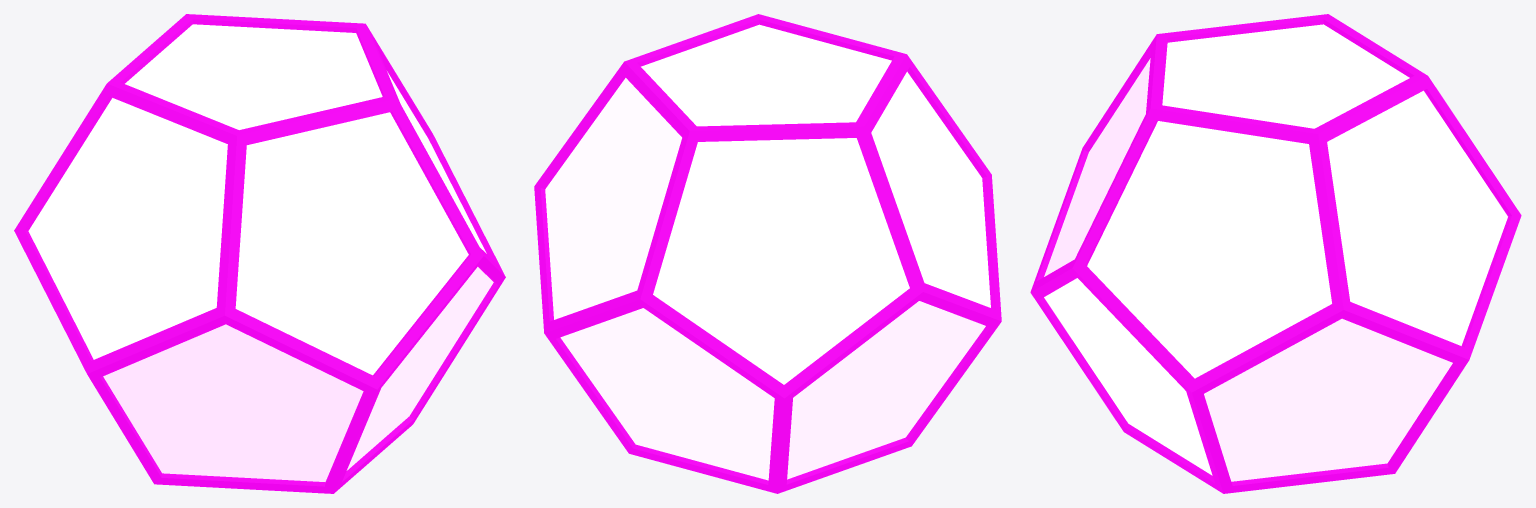
Rendered from SFI0210003.fbx.
3 views of the same model, side by side, from view 1: azimuth 30°, elevation 25°; view 2: azimuth 150°, elevation 25°; view 3: azimuth 270°, elevation 25° (orthographic). The views are drawn at different scales.
Parts seen in each view (by area): view 1: smSFI0210003; view 2: smSFI0210003; view 3: smSFI0210003.
Boxes of the visible parts, x1,y1,x2,y2 form: smSFI0210003: [14, 14, 505, 493]; smSFI0210003: [534, 14, 1001, 493]; smSFI0210003: [1030, 14, 1521, 493].
Size of the model in its own units: 134 by 113 by 139.
